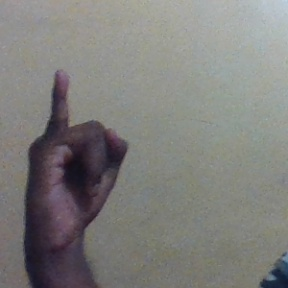I: (24, 67, 132, 244)
